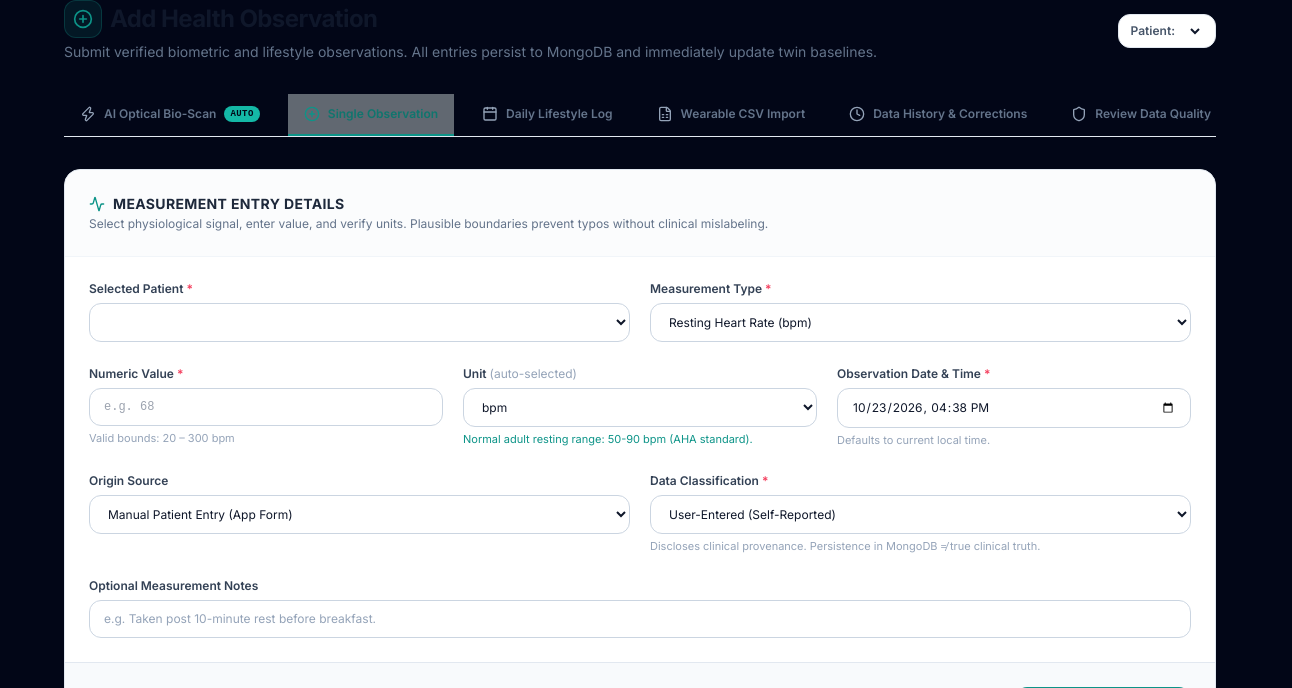
Test case: AddObservationPage Component › renders Review Data Quality tab with provenance matrix, baseline isolation, corridors, and prediction safeguards
Click the button "Review Data Quality AUDIT" at (1166, 115), box [1055,94,1276,136]
(page scrolled)
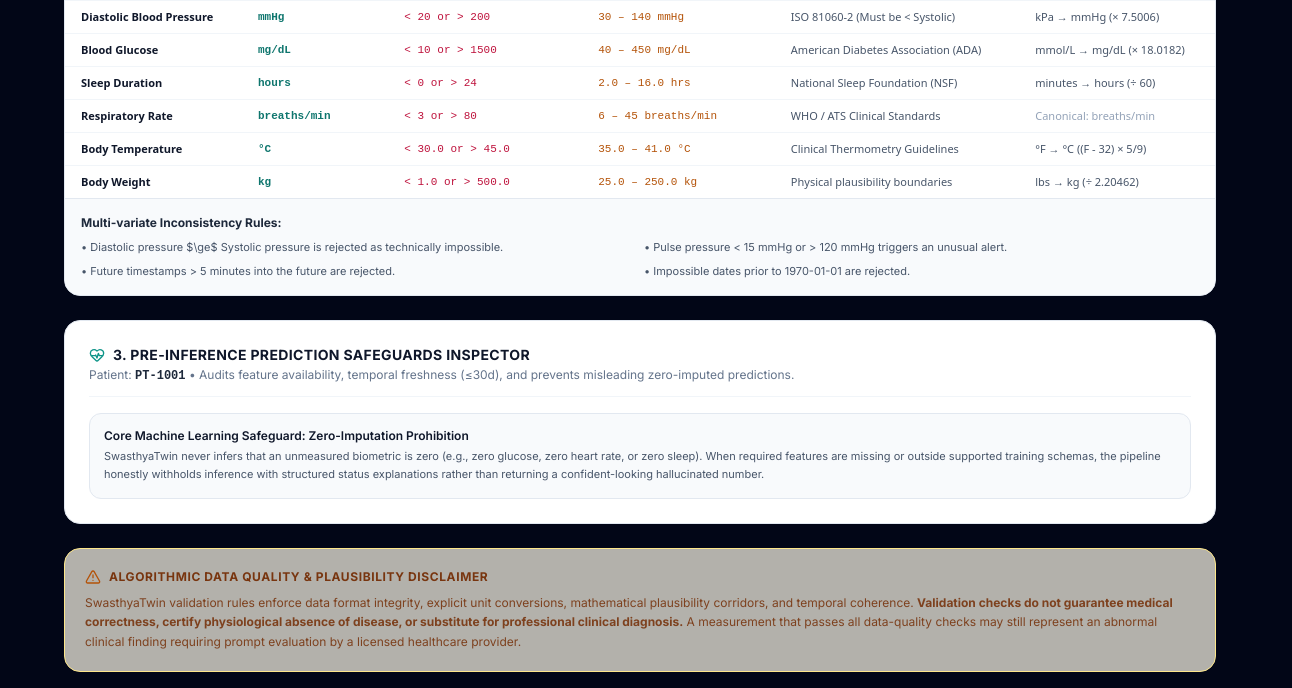
Now the text "American Diabetes Association (ADA)" is shown, box [775,34,1019,66]
Now the heading "3. Pre-Inference Prediction Safeguards Inspector" is shown, box [89,346,530,363]
Now the text "Core Machine Learning Safeguard: Zero-Imputation Prohibition" is shown, box [104,428,469,443]
